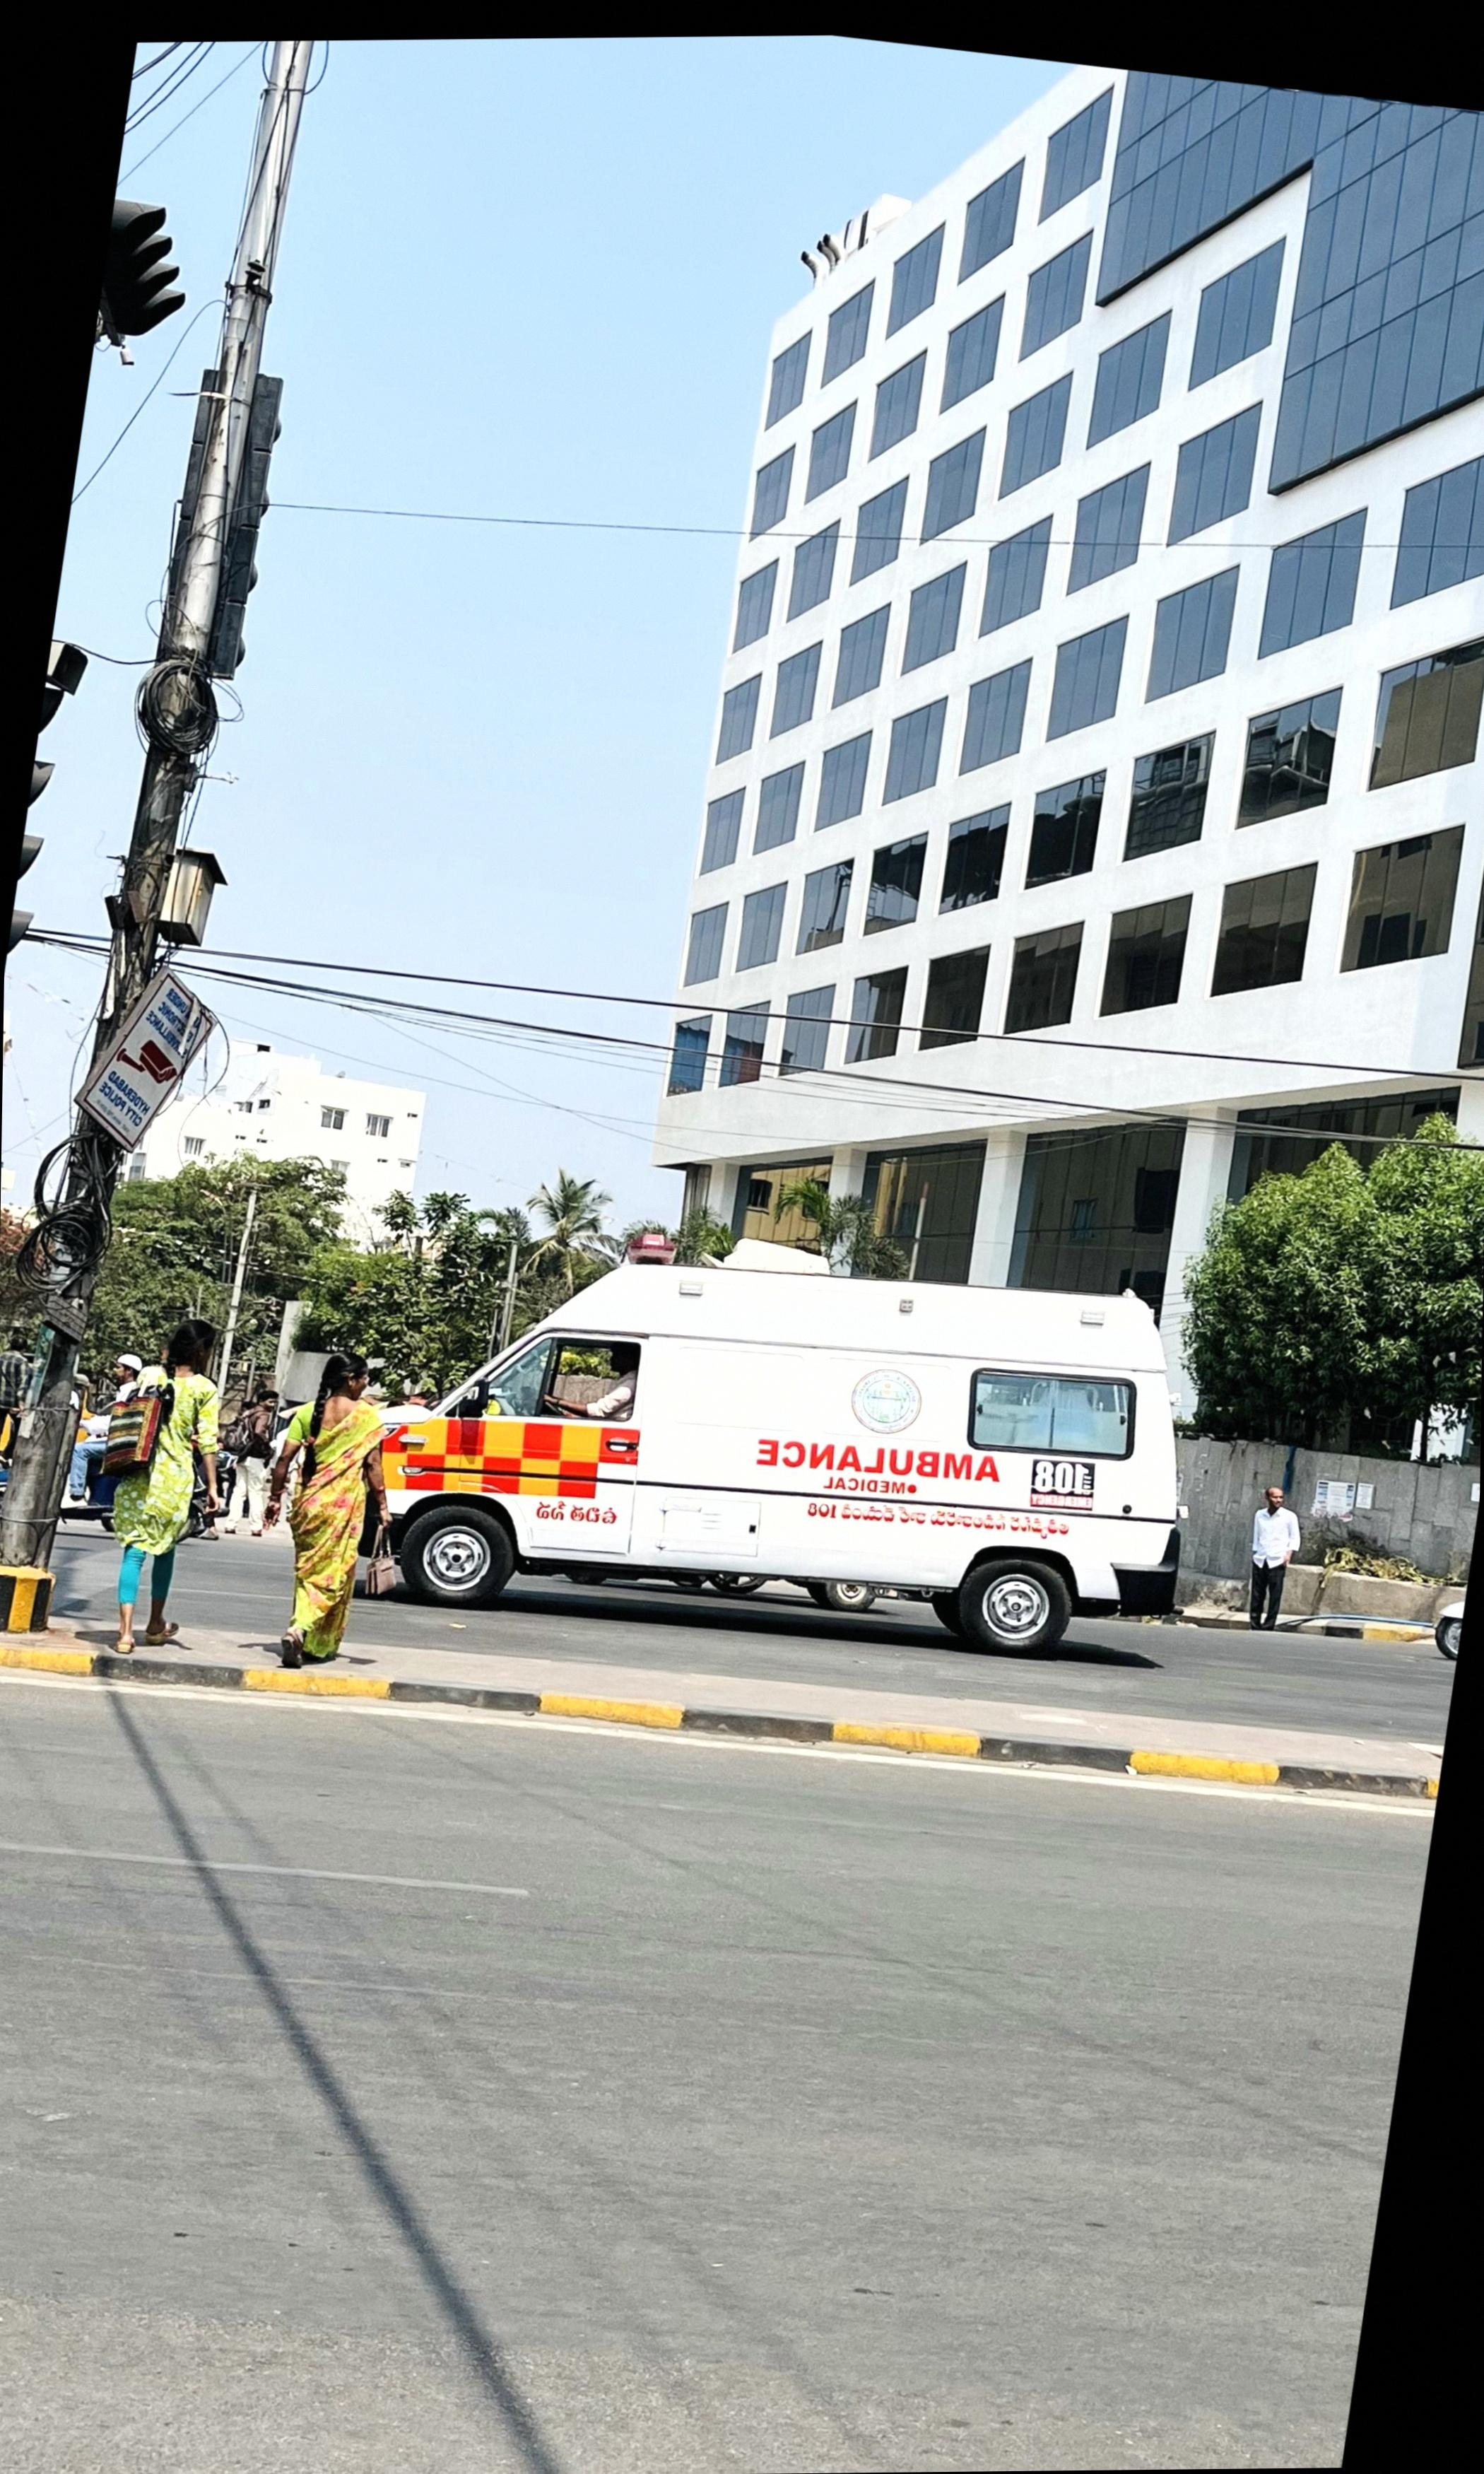ambulance: (392, 1228, 1182, 1658)
